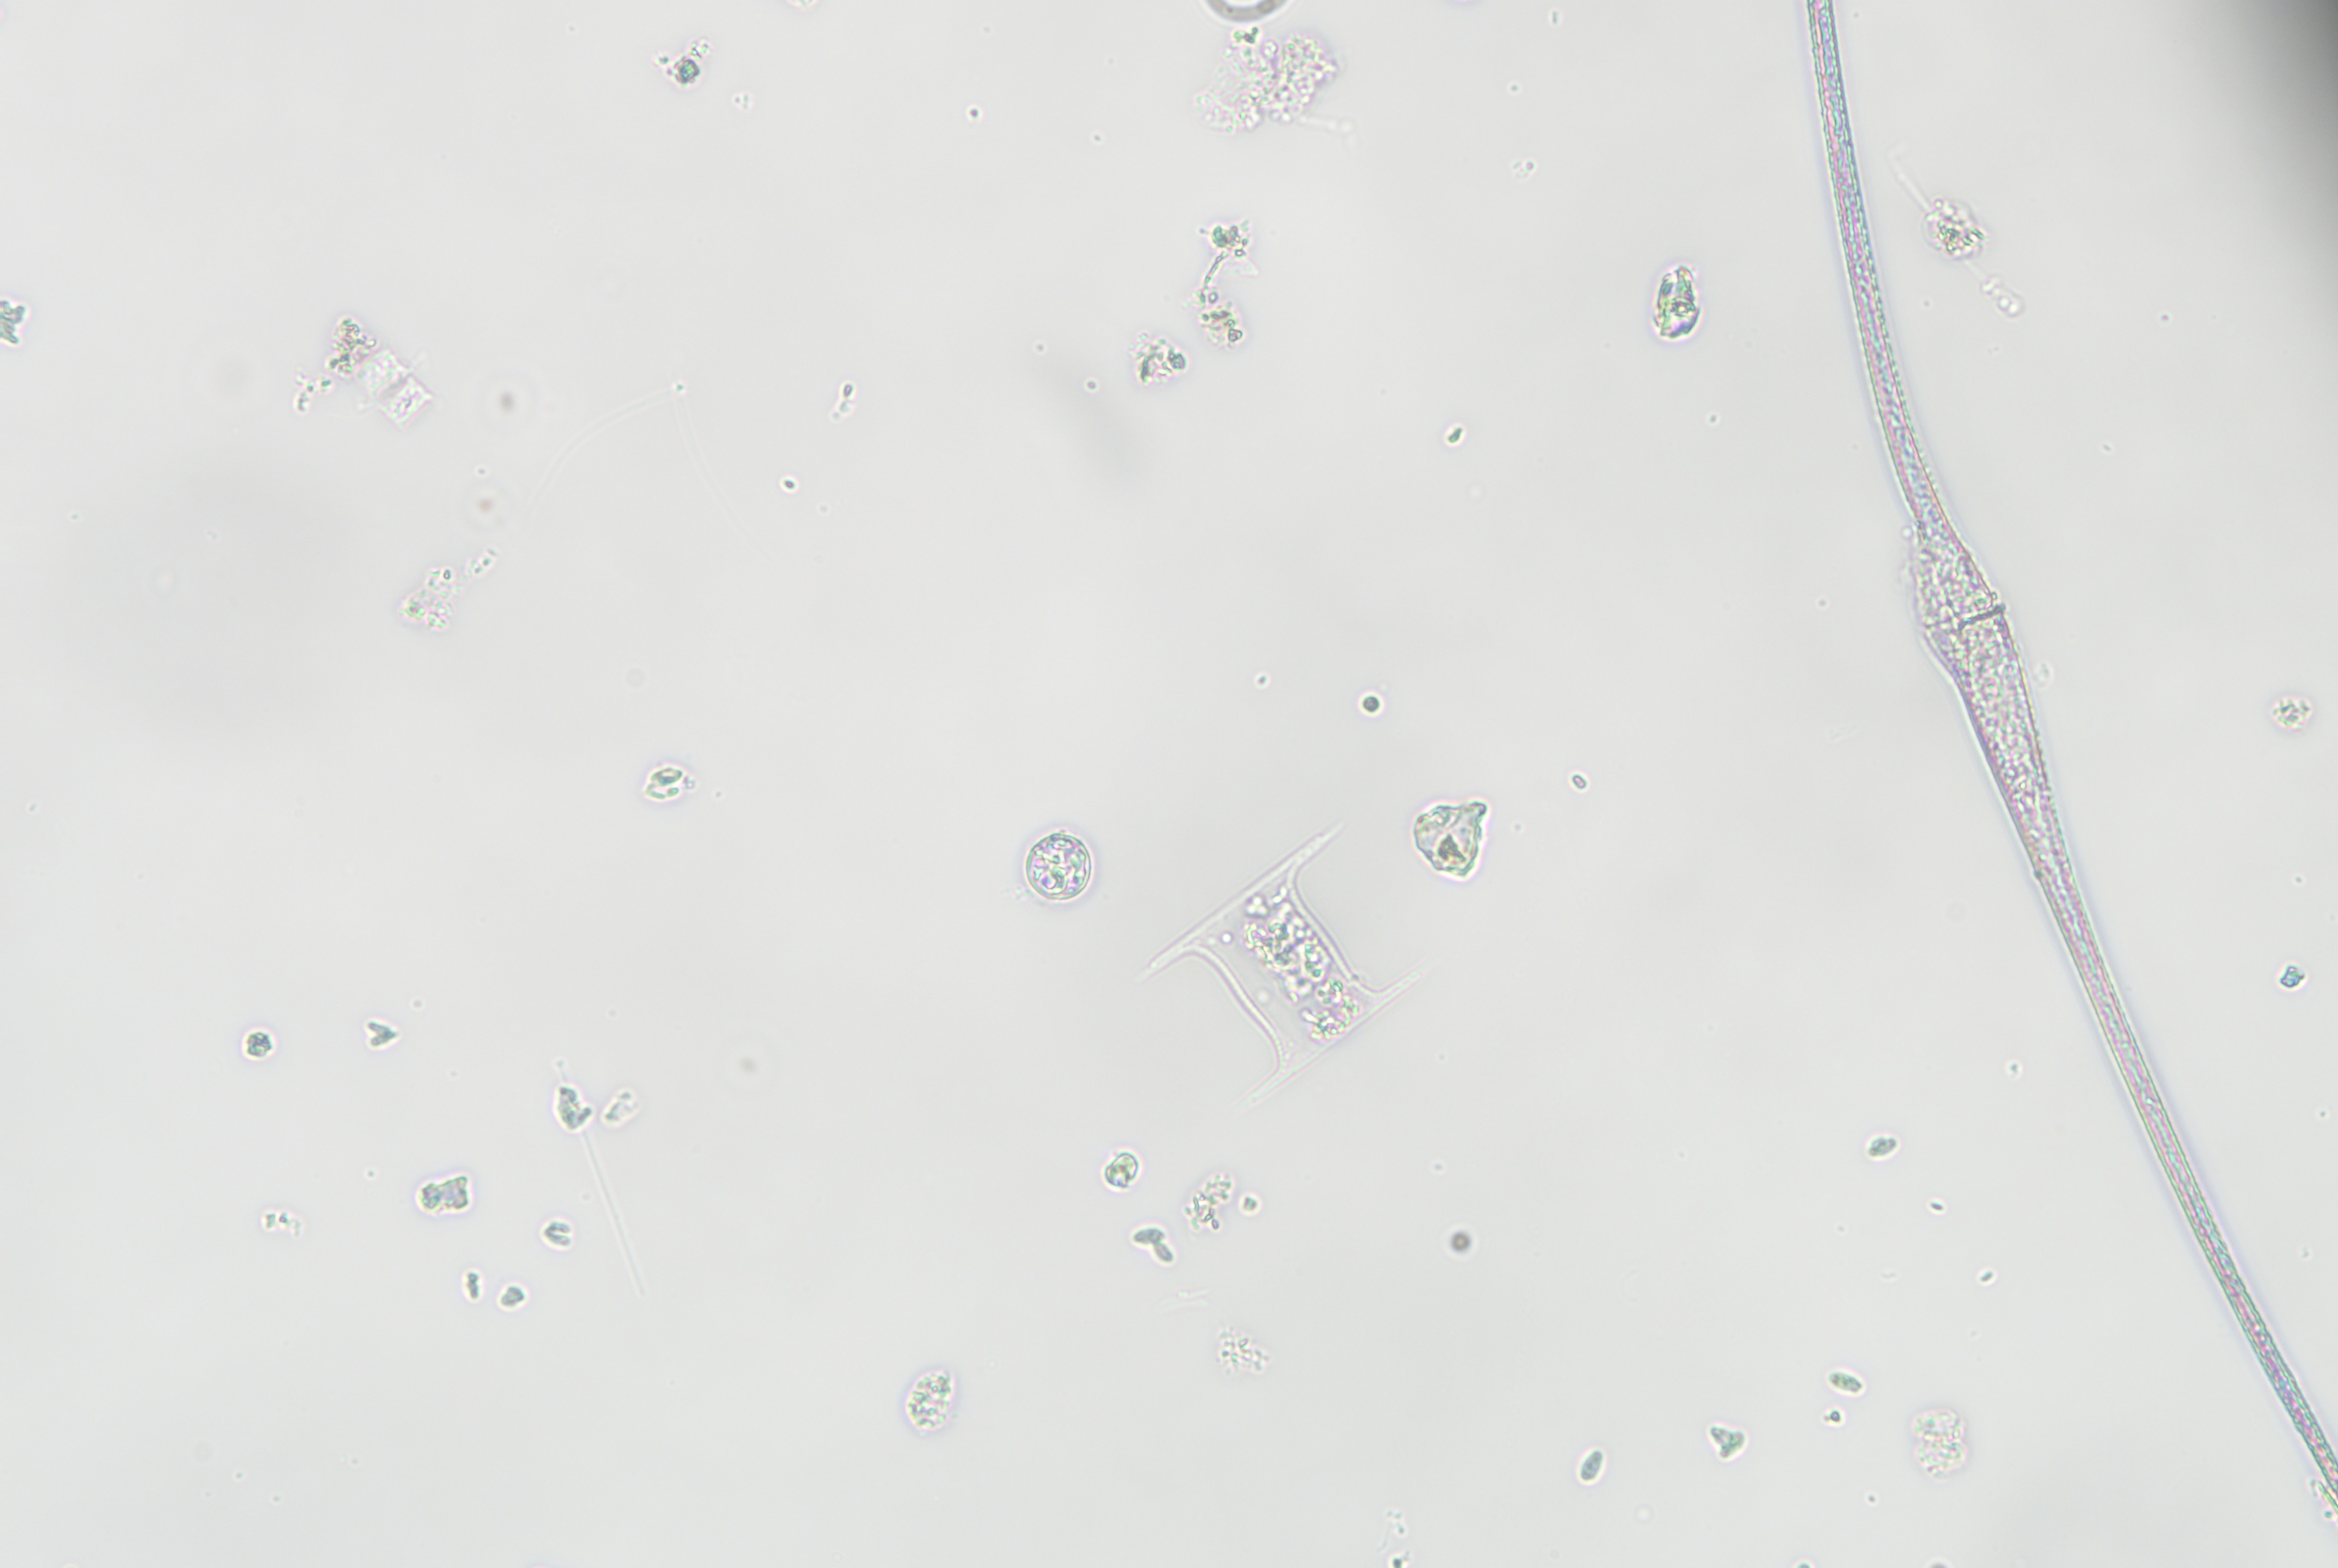ceratium fusus: (1776, 5, 2336, 1521)
